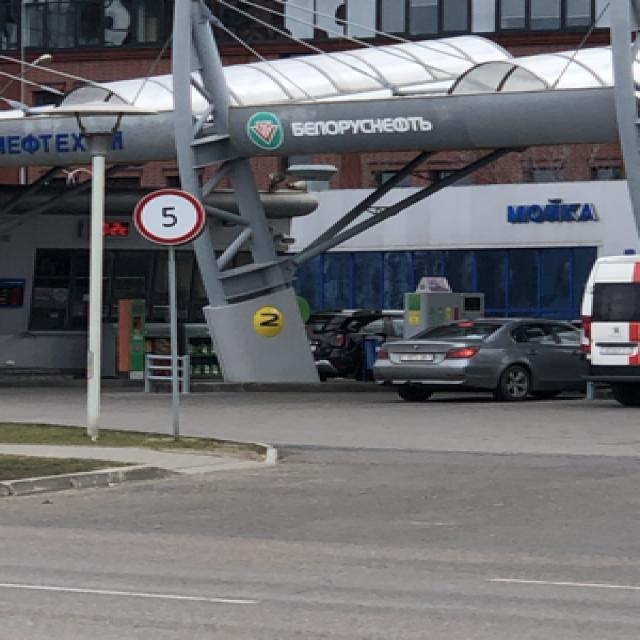speedlimit: (130, 186, 203, 243)
